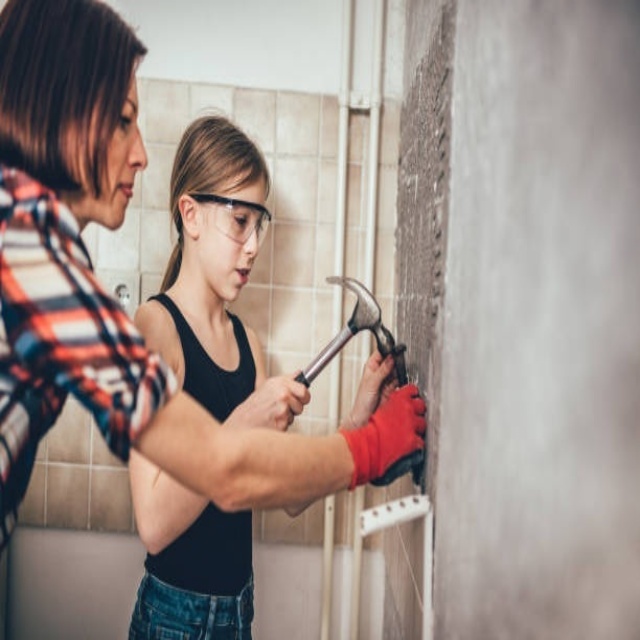Gafas: (186, 192, 272, 248)
Guantes: (340, 383, 426, 490)
Sin_gafas: (105, 96, 141, 140)
Sin_guantes: (348, 348, 402, 429), (238, 372, 308, 434)
Sin_mascara: (95, 168, 138, 227), (219, 257, 257, 303)
